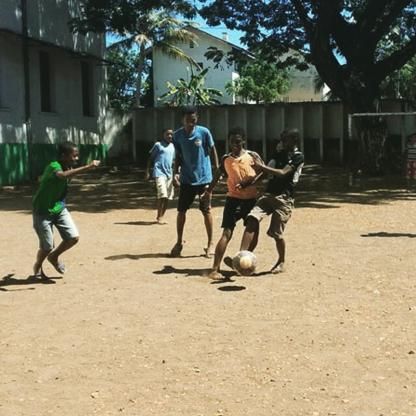Ball: (233, 252, 258, 276)
